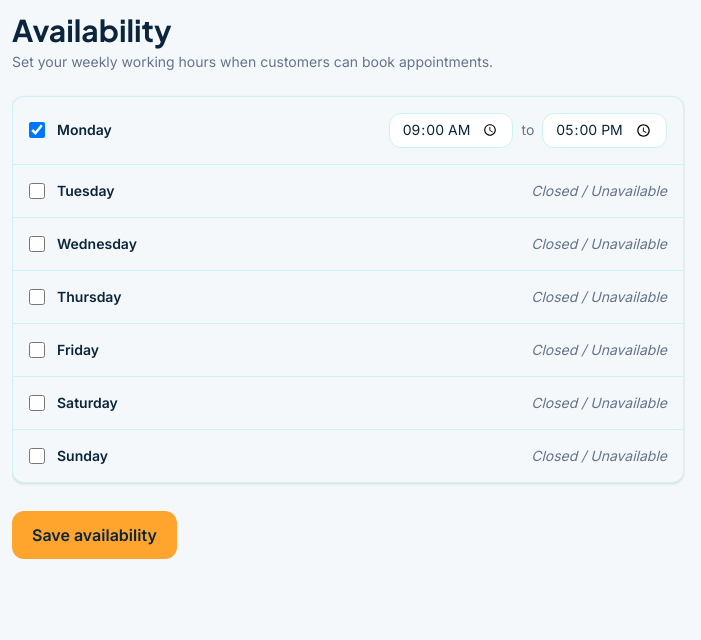
Test: AvailabilityPage › validates that start time must be before end time for enabled days
Expected: the button "Save availability" is shown, x1=12 y1=511 x2=177 y2=559
Replace the text in the time field named "Monday start time" with "18:00": coordinates (451, 130) x1=389 y1=113 x2=514 y2=148
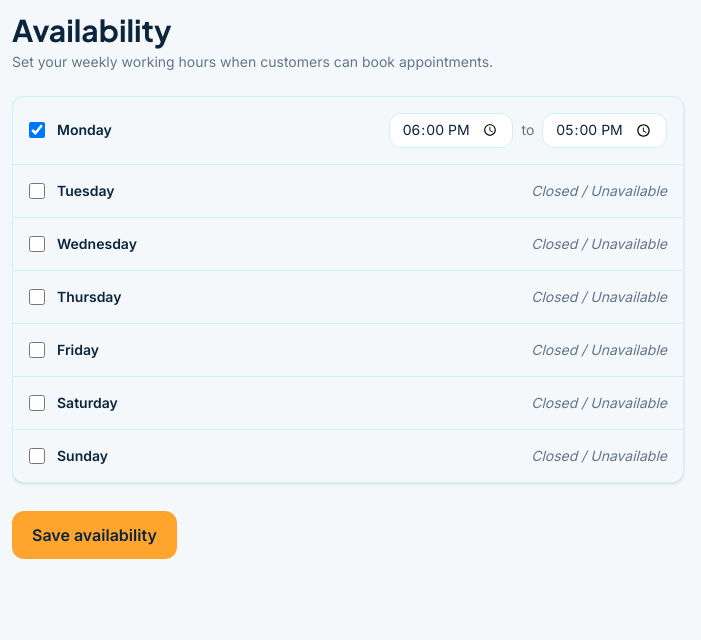
Replace the text in the time field named "Monday end time" with "09:00": coordinates (605, 130) x1=542 y1=113 x2=667 y2=148
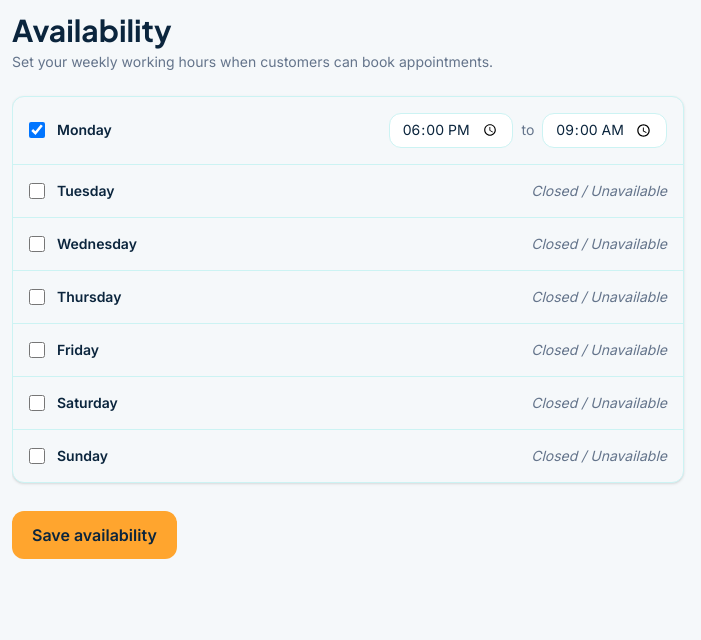
Click the button "Save availability": coordinates (94, 535) x1=12 y1=511 x2=177 y2=559
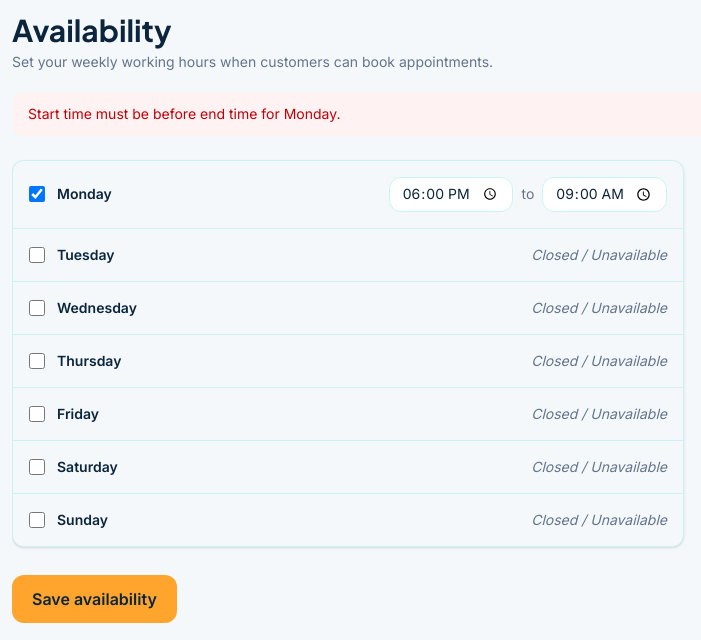
Expected: the message reads "Start time must be before end time for Monday.", x1=28 y1=105 x2=340 y2=122
